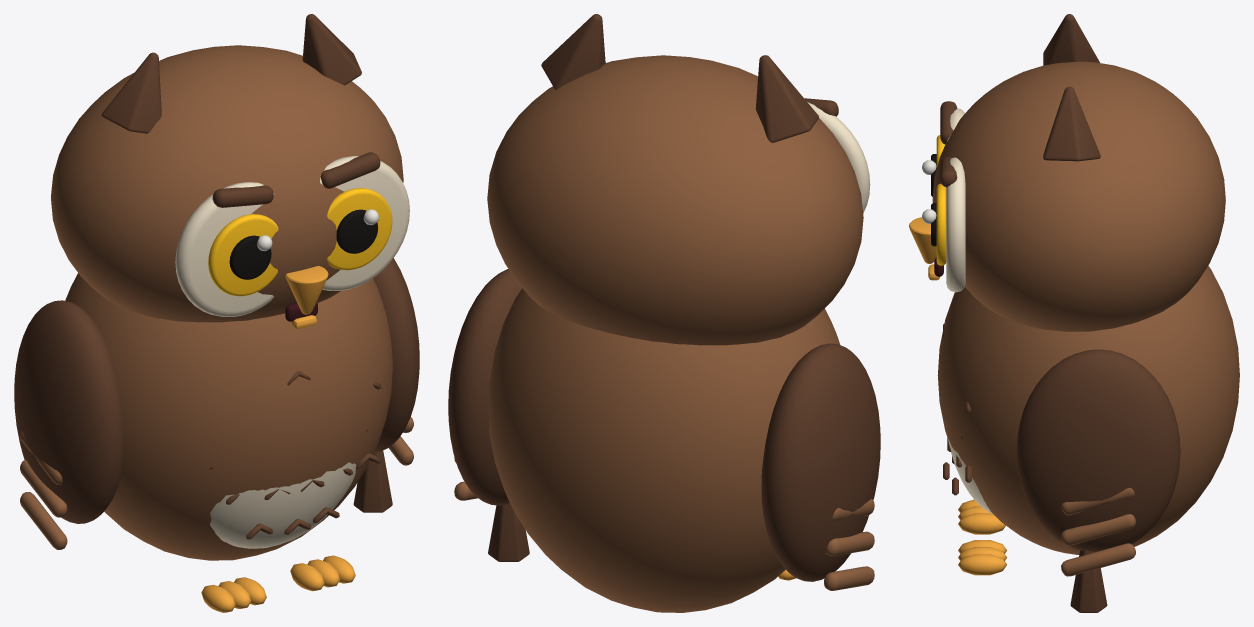
File: coruja.glb
3 renders of one model, left to right at view 1: azimuth 30°, elevation 25°; view 2: azimuth 150°, elevation 25°; view 3: azimuth 270°, elevation 25°, orthographic. The views are drawn at different scales.
Parts seen in each view (by area): view 1: coruja_rosto, coruja_corpo, Icosphere.007, Icosphere, Cylinder, Icosphere.008, Cylinder.001, Cylinder.002, Cone.001, Cylinder.003, Cone.002, Cone (+9 smaller); view 2: coruja_rosto, coruja_corpo, Icosphere.007, Icosphere.008, Cone.001, Cone.002, Cone, Cylinder, Cube.044, Cube.043; view 3: coruja_rosto, coruja_corpo, Icosphere.008, Cone.002, Cylinder.001, Cone.001, Cone, Cube.047, Cube.046, Cylinder.003, Icosphere.006, Icosphere.003 (+4 smaller).
Part boxes in pixels (left/top/right/bottom): coruja_rosto: left=51, top=45, right=403, bottom=322; coruja_corpo: left=65, top=273, right=392, bottom=560; Icosphere.007: left=14, top=300, right=123, bottom=523; Icosphere: left=210, top=462, right=356, bottom=548; Cylinder: left=175, top=182, right=274, bottom=316; Icosphere.008: left=373, top=258, right=419, bottom=451; Cylinder.001: left=320, top=156, right=409, bottom=290; Cylinder.002: left=208, top=214, right=278, bottom=296; Cone.001: left=101, top=52, right=161, bottom=133; Cylinder.003: left=327, top=188, right=392, bottom=270; Cone.002: left=302, top=14, right=361, bottom=85; Cone: left=353, top=450, right=392, bottom=512; coruja_rosto: left=487, top=55, right=863, bottom=345; coruja_corpo: left=488, top=288, right=840, bottom=612; Icosphere.007: left=761, top=343, right=880, bottom=581; Icosphere.008: left=448, top=269, right=521, bottom=505; Cone.001: left=755, top=55, right=818, bottom=142; Cone.002: left=541, top=14, right=605, bottom=89; Cone: left=488, top=503, right=529, bottom=561; Cylinder: left=807, top=102, right=870, bottom=213; Cube.044: left=824, top=566, right=874, bottom=590; Cube.043: left=825, top=531, right=874, bottom=556; coruja_rosto: left=932, top=61, right=1225, bottom=331; coruja_corpo: left=937, top=265, right=1239, bottom=554; Icosphere.008: left=1016, top=349, right=1180, bottom=551; Cone.002: left=1043, top=86, right=1100, bottom=161; Cylinder.001: left=946, top=157, right=965, bottom=292; Cone.001: left=1043, top=14, right=1099, bottom=65; Cone: left=1070, top=550, right=1107, bottom=612; Cube.047: left=1061, top=543, right=1135, bottom=576; Cube.046: left=1061, top=514, right=1135, bottom=545; Cylinder.003: left=936, top=183, right=946, bottom=265; Icosphere.006: left=958, top=554, right=1006, bottom=575; Icosphere.003: left=958, top=513, right=1005, bottom=534.
Bounding box in the file's own units: 0.82 × 1.13 × 0.6852.
